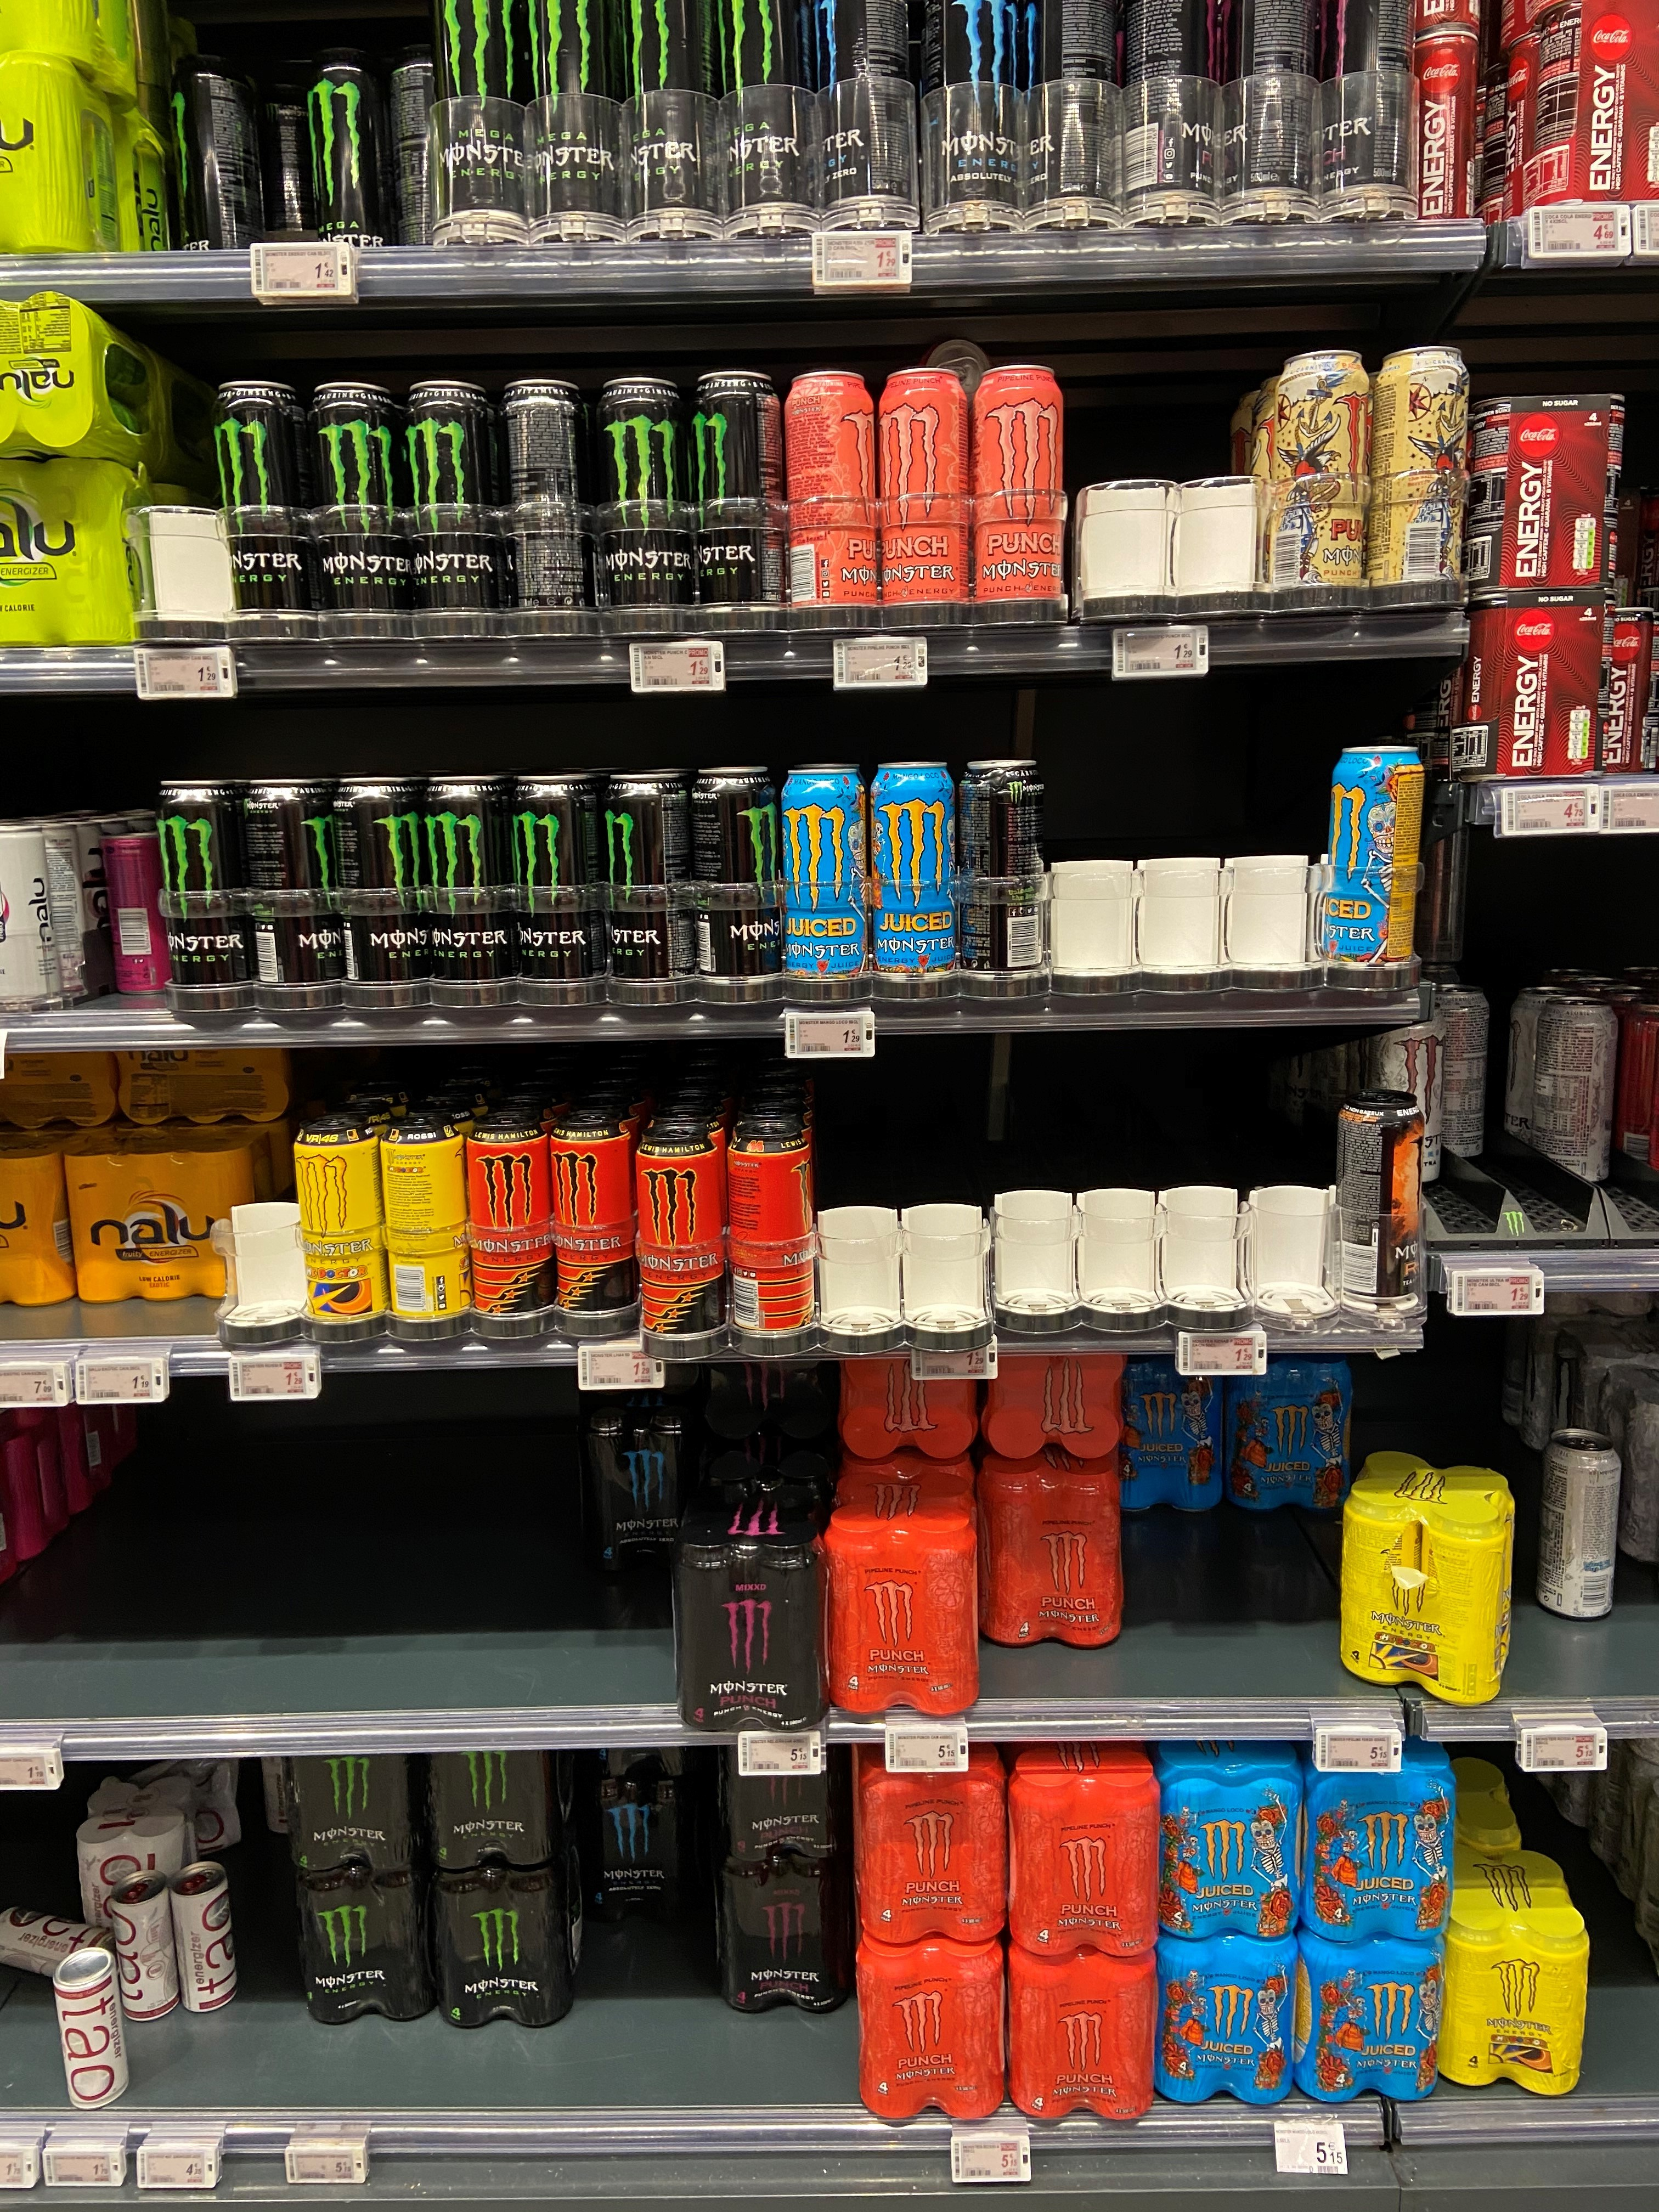CocaColaEnergy250ml: (1413, 31, 1485, 219), (1595, 606, 1654, 775)
CocaColaEnergy4x250ml: (1476, 19, 1659, 214), (1453, 592, 1619, 780), (1469, 394, 1624, 592)
Monster44: (634, 1125, 727, 1353), (727, 1120, 816, 1352), (547, 1111, 636, 1343), (465, 1113, 554, 1331)
MonsterAbsolutelyZero4x500ml: (577, 1399, 702, 1581), (577, 1773, 694, 1918)
MonsterAbsolutelyZero500ml: (922, 0, 1019, 232), (1023, 0, 1121, 232), (823, 0, 917, 226)
MonsterMangoLoco4x500ml: (1298, 1737, 1455, 1942), (1155, 1728, 1305, 1940), (1293, 1914, 1441, 2102), (1155, 1919, 1297, 2107), (1227, 1360, 1358, 1510), (1121, 1357, 1222, 1514)
MonsterMangoLoco500ml: (1323, 745, 1424, 991), (868, 763, 957, 995), (781, 768, 868, 1003)
MonsterOriginal4x500ml: (432, 1865, 577, 2029), (295, 1862, 436, 2020), (422, 1726, 566, 1865), (289, 1723, 429, 1864)
MonsterOriginal500ml: (214, 383, 321, 627), (401, 380, 504, 624), (687, 371, 784, 627), (497, 378, 596, 624), (594, 376, 690, 622), (310, 381, 410, 618), (246, 779, 342, 1019), (157, 777, 254, 1012), (434, 0, 528, 242), (723, 0, 819, 235), (627, 0, 720, 239), (335, 775, 427, 1010), (423, 773, 516, 1007), (532, 0, 620, 242), (692, 766, 781, 1005), (958, 759, 1047, 995), (514, 775, 605, 1005), (603, 773, 692, 1000), (167, 54, 258, 265), (301, 47, 389, 260)
MonsterPacificPunch: (1270, 350, 1370, 604), (1373, 347, 1471, 599)
MonsterPipelinePunch4x500ml: (823, 1470, 979, 1716), (1006, 1726, 1161, 1954), (857, 1902, 1006, 2123), (854, 1743, 1011, 1944), (978, 1433, 1122, 1648), (1006, 1928, 1155, 2125), (979, 1341, 1129, 1460), (840, 1343, 979, 1460)
MonsterPipelinePunch500ml: (781, 371, 878, 624), (972, 364, 1065, 610), (878, 369, 971, 613)
MonsterPunchEnergy4x500ml: (669, 1486, 826, 1737), (716, 1843, 849, 2012), (716, 1717, 843, 1858)
MonsterPunchEnergy500ml: (1218, 0, 1319, 214), (1124, 0, 1220, 219), (1323, 0, 1413, 219)
MonsterTeaEnergy: (1337, 1089, 1427, 1303)
MonsterTheDoctor4x500ml: (1342, 1451, 1514, 1707), (1425, 1850, 1589, 2097)
MonsterTheDoctor500ml: (376, 1113, 471, 1332), (293, 1115, 380, 1341)
MonsterUltra: (1535, 1428, 1622, 1622), (1532, 998, 1621, 1184), (1425, 981, 1488, 1160)
NaluExotic6x350ml: (66, 1130, 274, 1303), (115, 1033, 291, 1123)
NaluOriginal6x350ml: (0, 460, 136, 650)
NaluPassion250ml: (101, 833, 173, 1000)
TaoNaturalEnergizer250ml: (54, 1949, 124, 2111), (173, 1860, 235, 2013), (115, 1871, 176, 2020)
